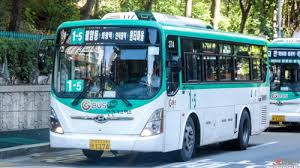bnum: (64, 79, 84, 91)
